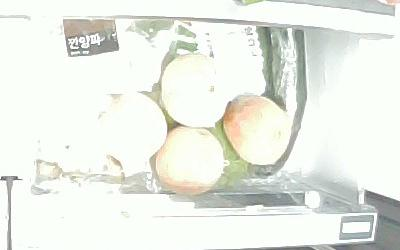peach: (161, 53, 228, 128), (155, 126, 225, 194), (224, 94, 291, 165)
